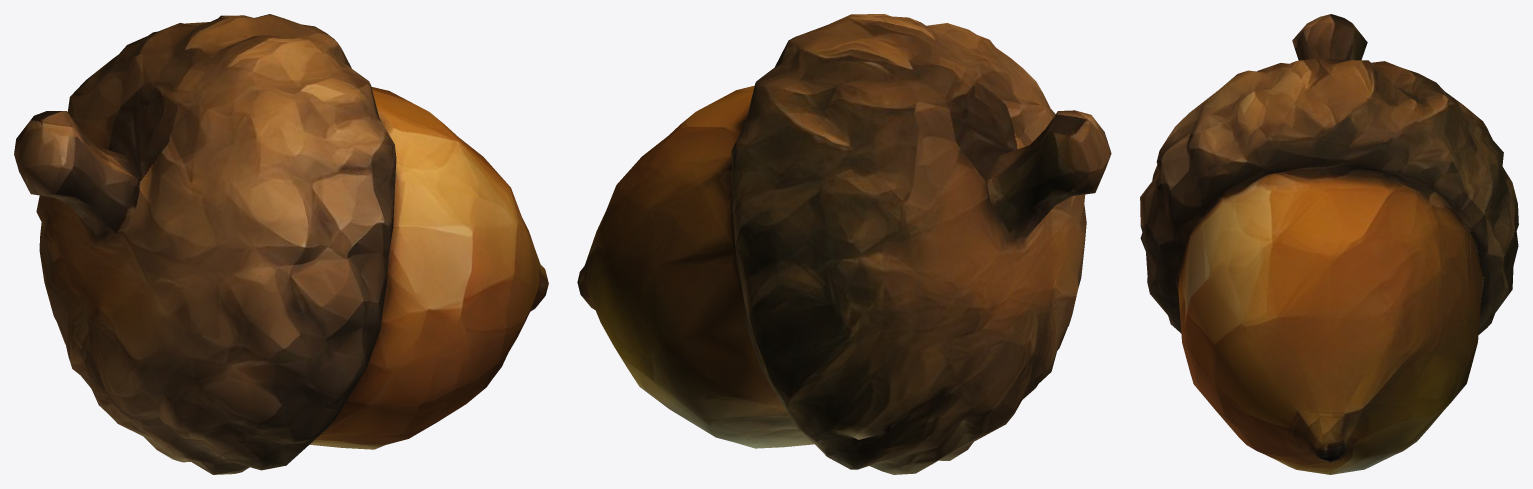
The model's file is item-acorn-5316c373.glb.
The picture shows the model from 3 angles, left to right: view 1: azimuth 30°, elevation 25°; view 2: azimuth 150°, elevation 25°; view 3: azimuth 270°, elevation 25°; orthographic projection. The views are drawn at different scales.
Visible parts, largest first — view 1: mvadapter_node_mvadapter; view 2: mvadapter_node_mvadapter; view 3: mvadapter_node_mvadapter.
Part boxes in pixels (box(x1,y1,x2,y2)): mvadapter_node_mvadapter: box(14, 14, 548, 474); mvadapter_node_mvadapter: box(577, 14, 1111, 474); mvadapter_node_mvadapter: box(1140, 14, 1518, 474).
Size of the model in its own units: 1.87 by 1.47 by 1.43.
Materials: 1 (1 with a texture image).
